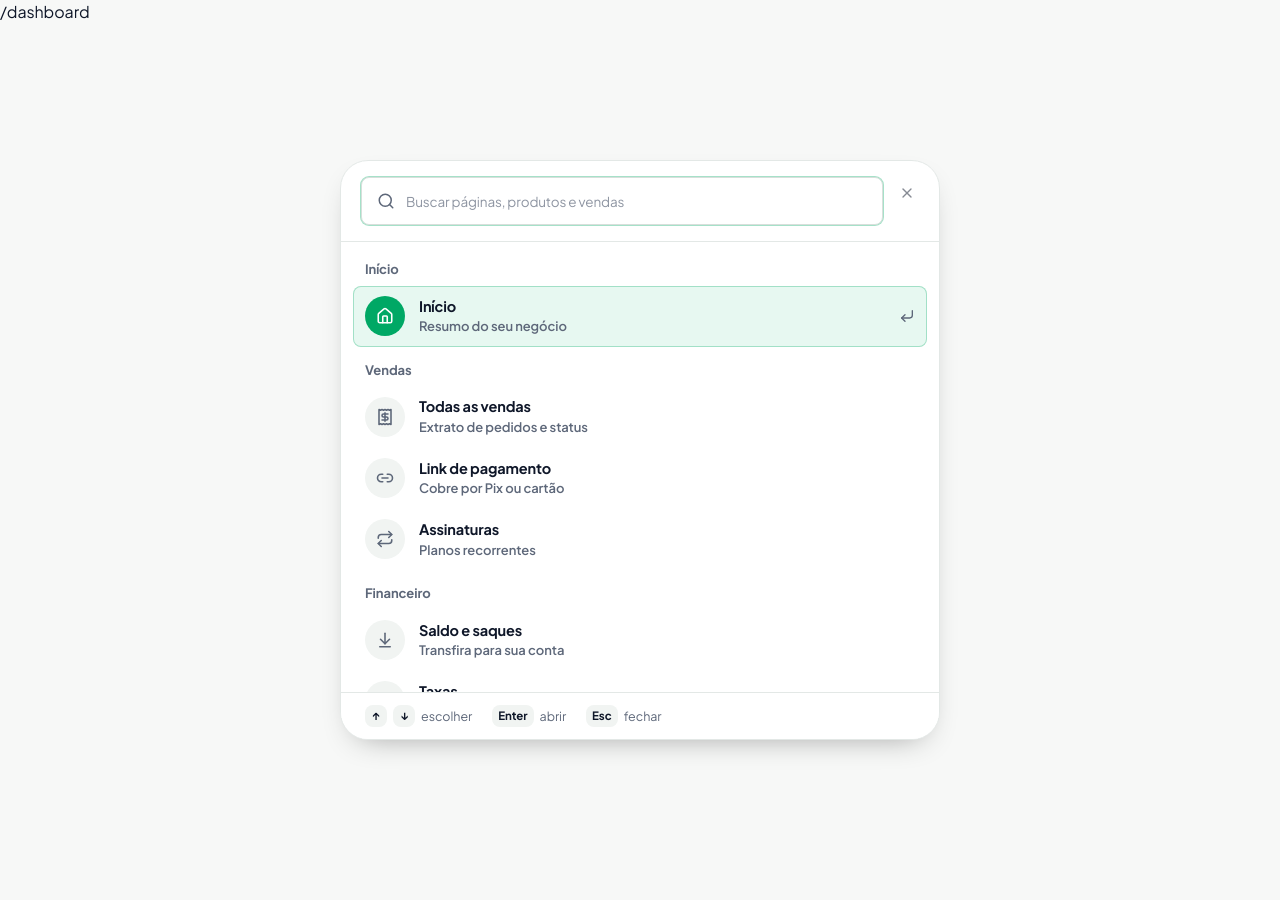
Scenario: diálogo de busca › setas escolhem, Enter abre e fecha o diálogo
The image size is (1280, 900).
Type "saque" into the dropdown at (622, 201), box top-left (361, 177), bottom-right (883, 225)
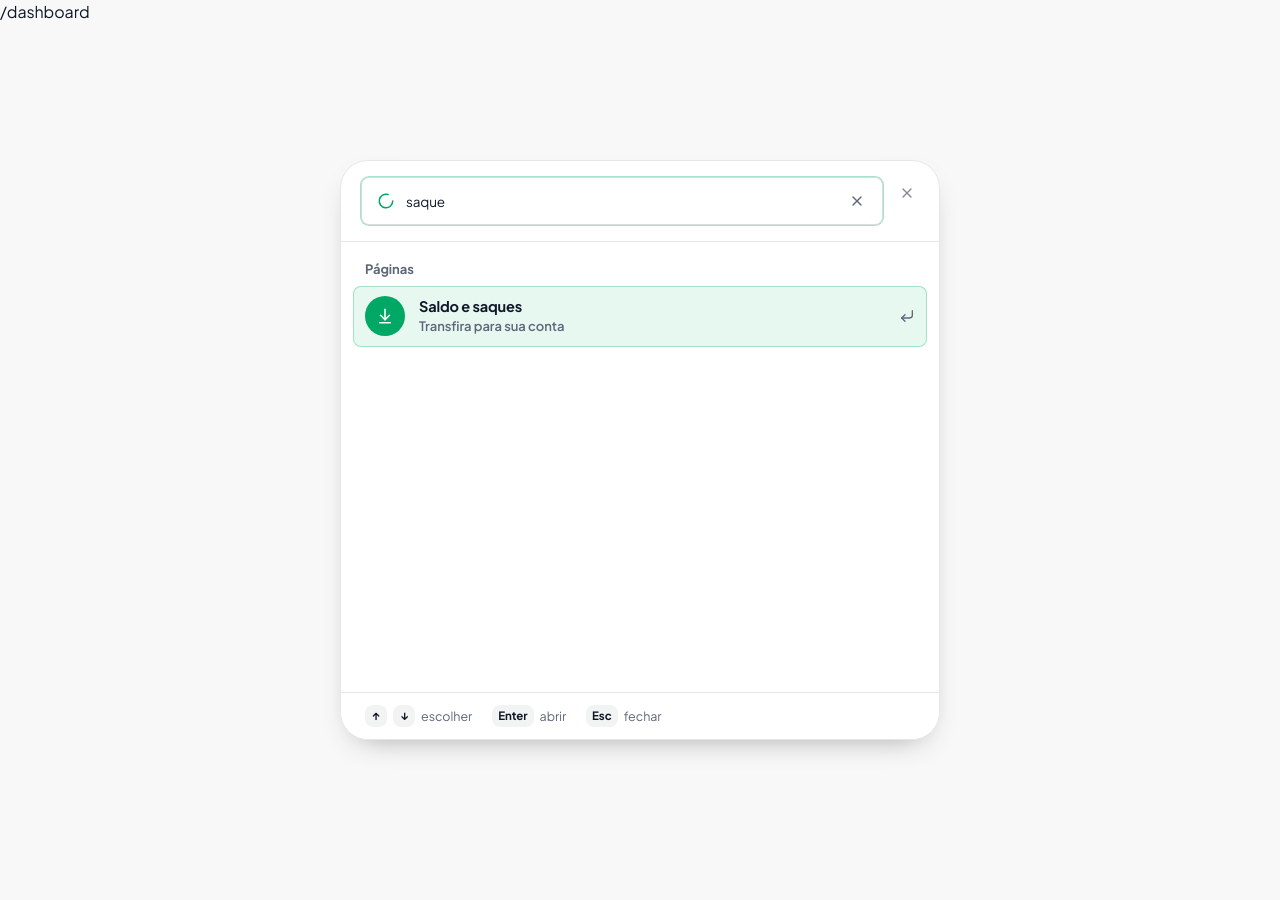
Now the option "Saldo e saques Transfira para sua conta" is selected, box top-left (353, 286), bottom-right (927, 347)
Press ArrowDown in the dropdown, box top-left (361, 177), bottom-right (883, 225)
Press ArrowUp in the dropdown, box top-left (361, 177), bottom-right (883, 225)
Press Enter in the dropdown, box top-left (361, 177), bottom-right (883, 225)
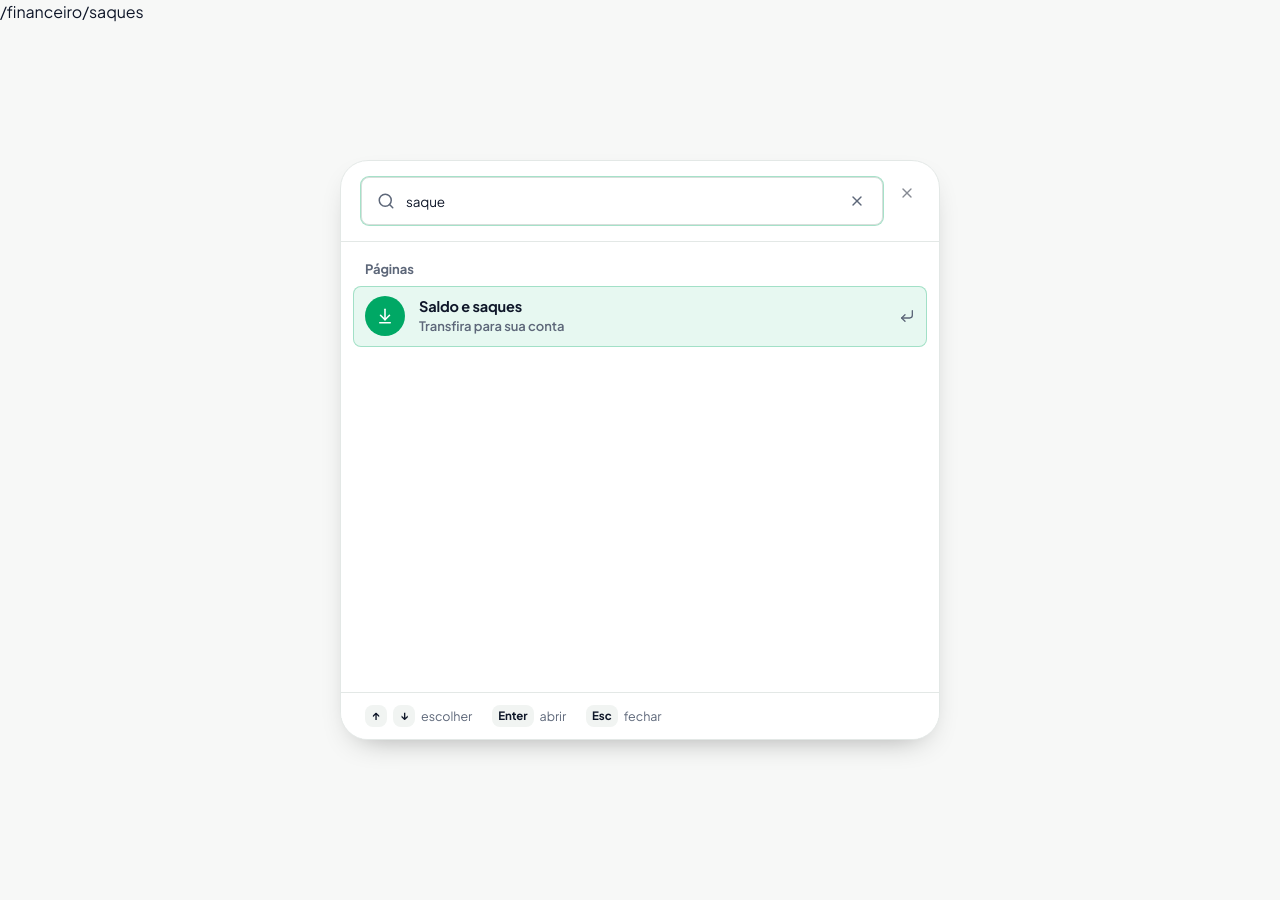
Now the text with test id "where" reads "/financeiro/saques", box top-left (0, 1), bottom-right (144, 22)
